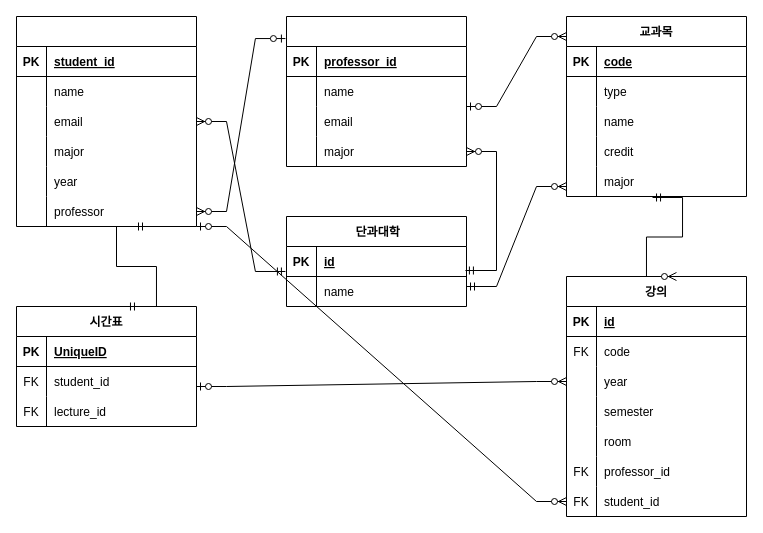
This 763x533 diagram has some shape labels left out. Here are the shapes that lost their labels. From the top down, the box of each, then its label:
(286, 16, 466, 166): 교수
(16, 16, 196, 226): 학생
